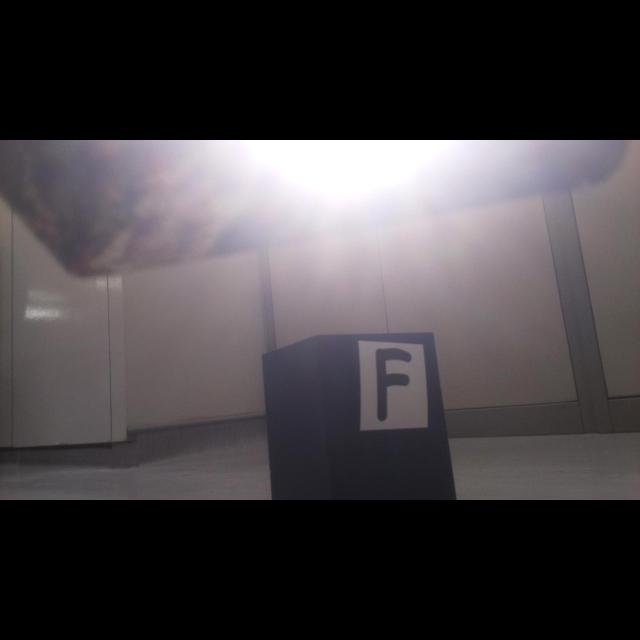F: (376, 346, 413, 422)
